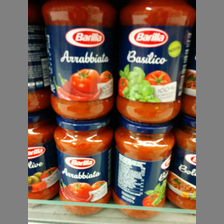tomato_sauce: (115, 1, 194, 124), (40, 2, 115, 119), (51, 115, 113, 217), (112, 122, 175, 219)
